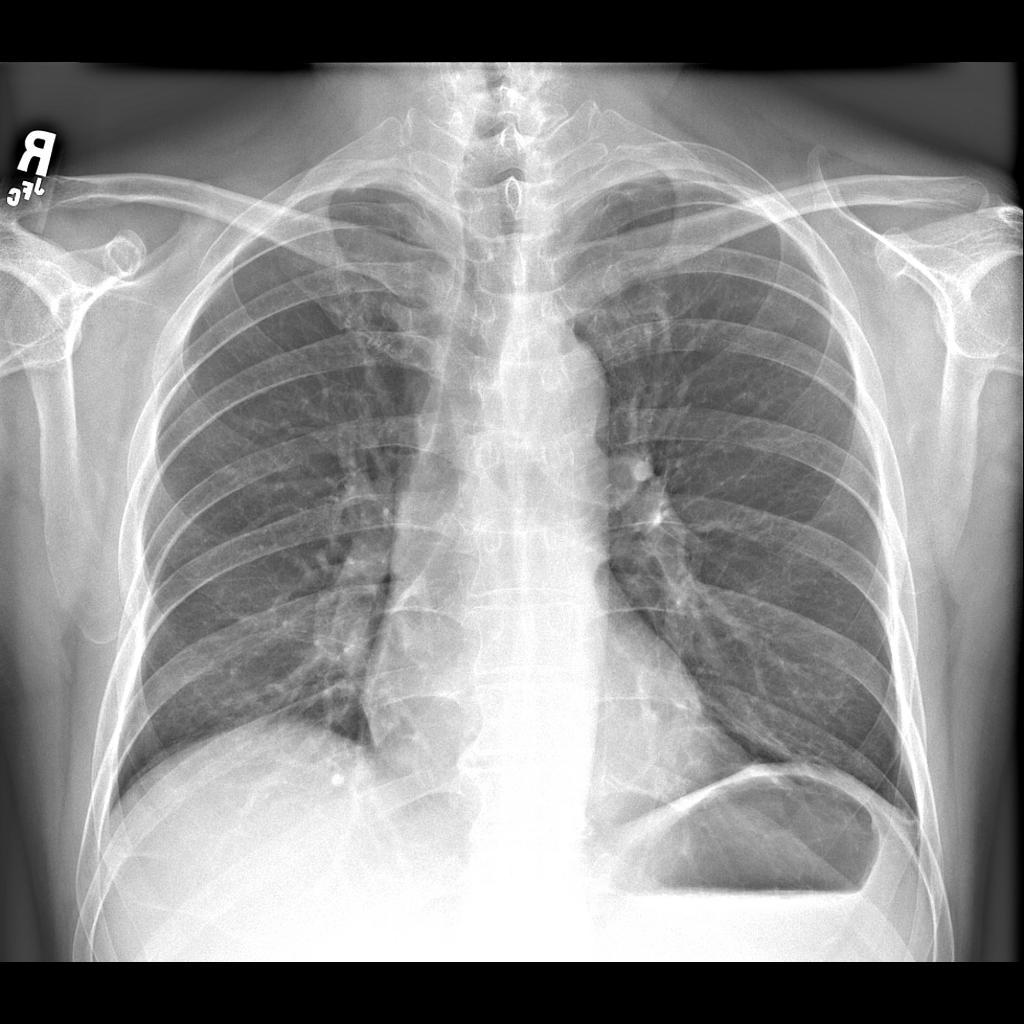Nodule: (313, 592, 374, 663)
